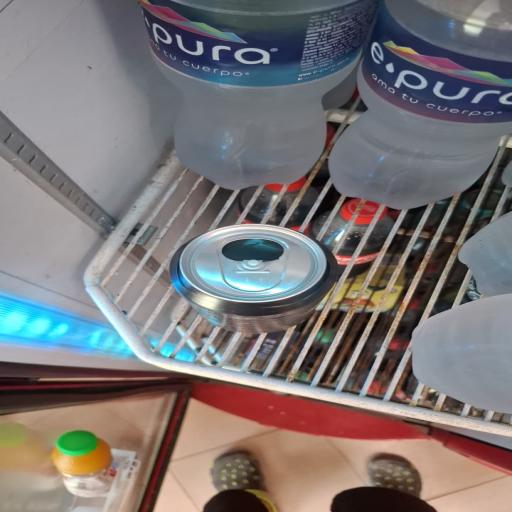LATA: (158, 220, 352, 347)
